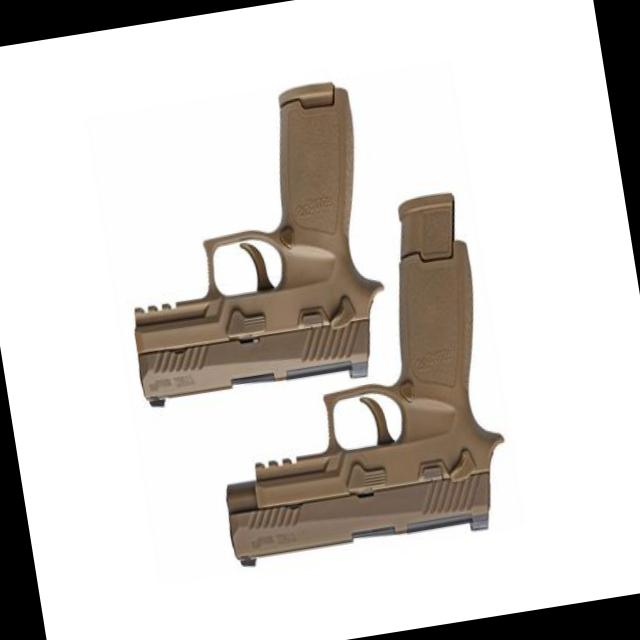Weapon: (171, 178, 529, 578), (86, 70, 403, 416)
